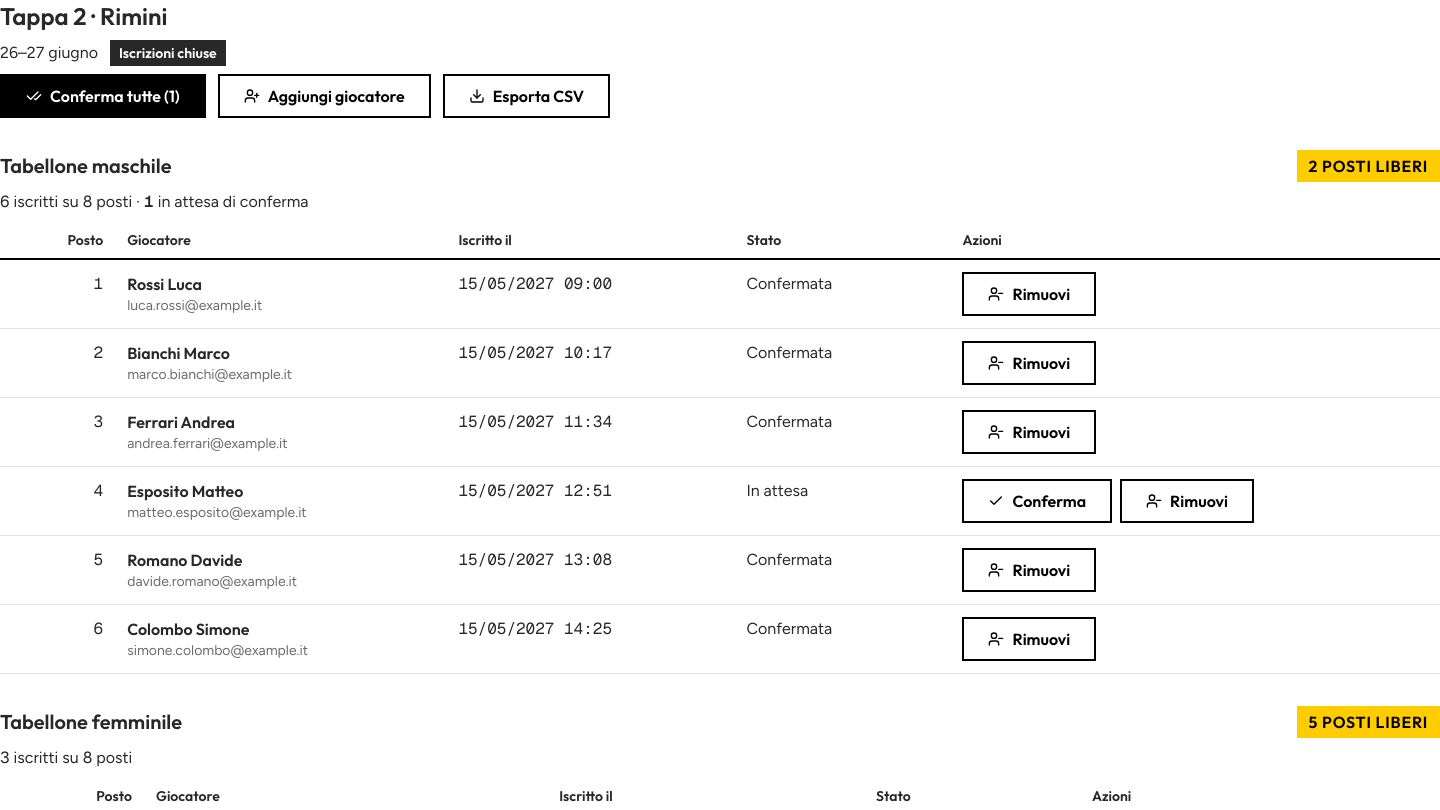
Test: IscrittiTappa (w-admin-iscritti) › rimuove dopo la conferma e porta il focus sul messaggio del tabellone
Click the button with aria-label "Rimuovi Rossi Luca" at (1029, 294), box left=962, top=272, right=1096, bottom=316
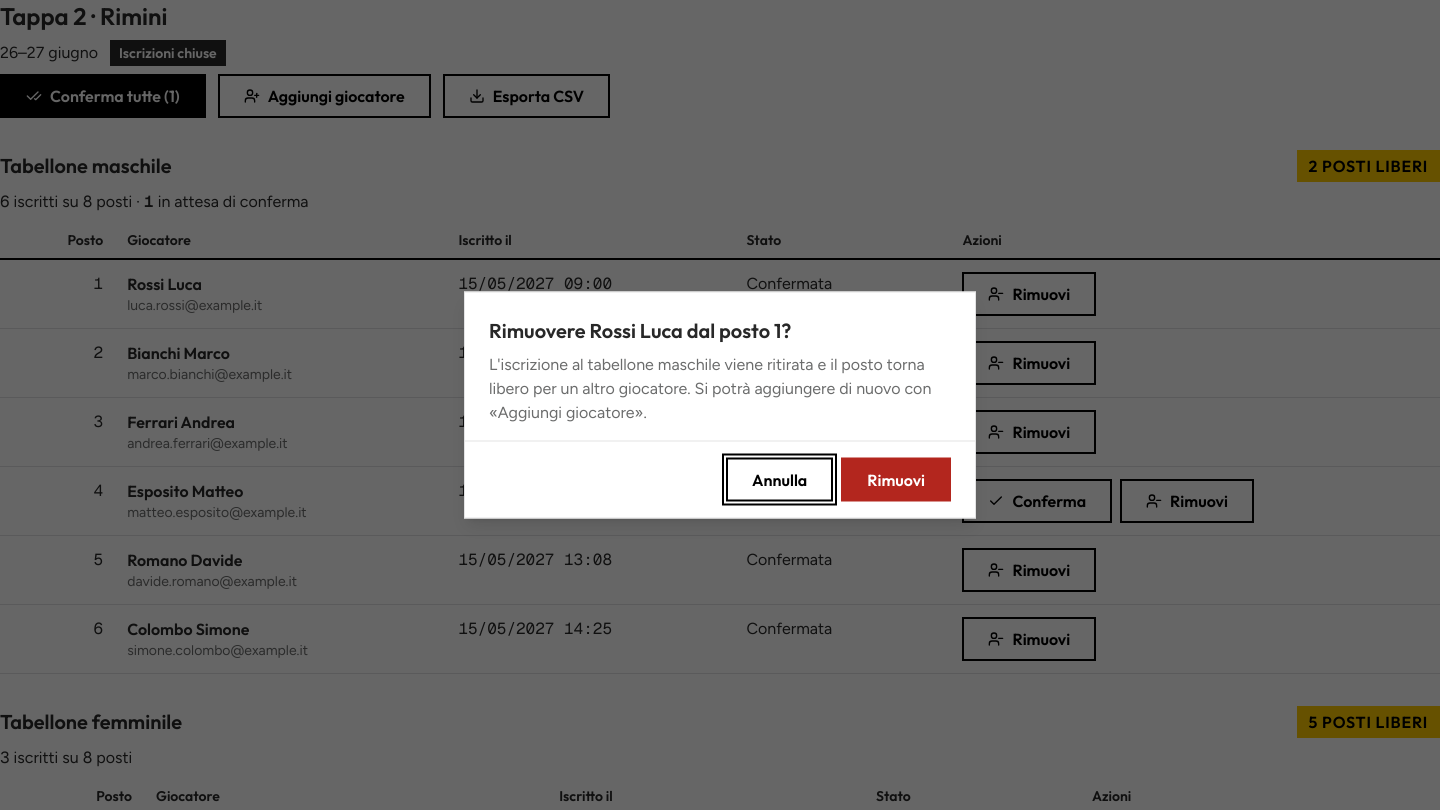
Click the button "Rimuovi" at (896, 480), box left=841, top=458, right=951, bottom=502
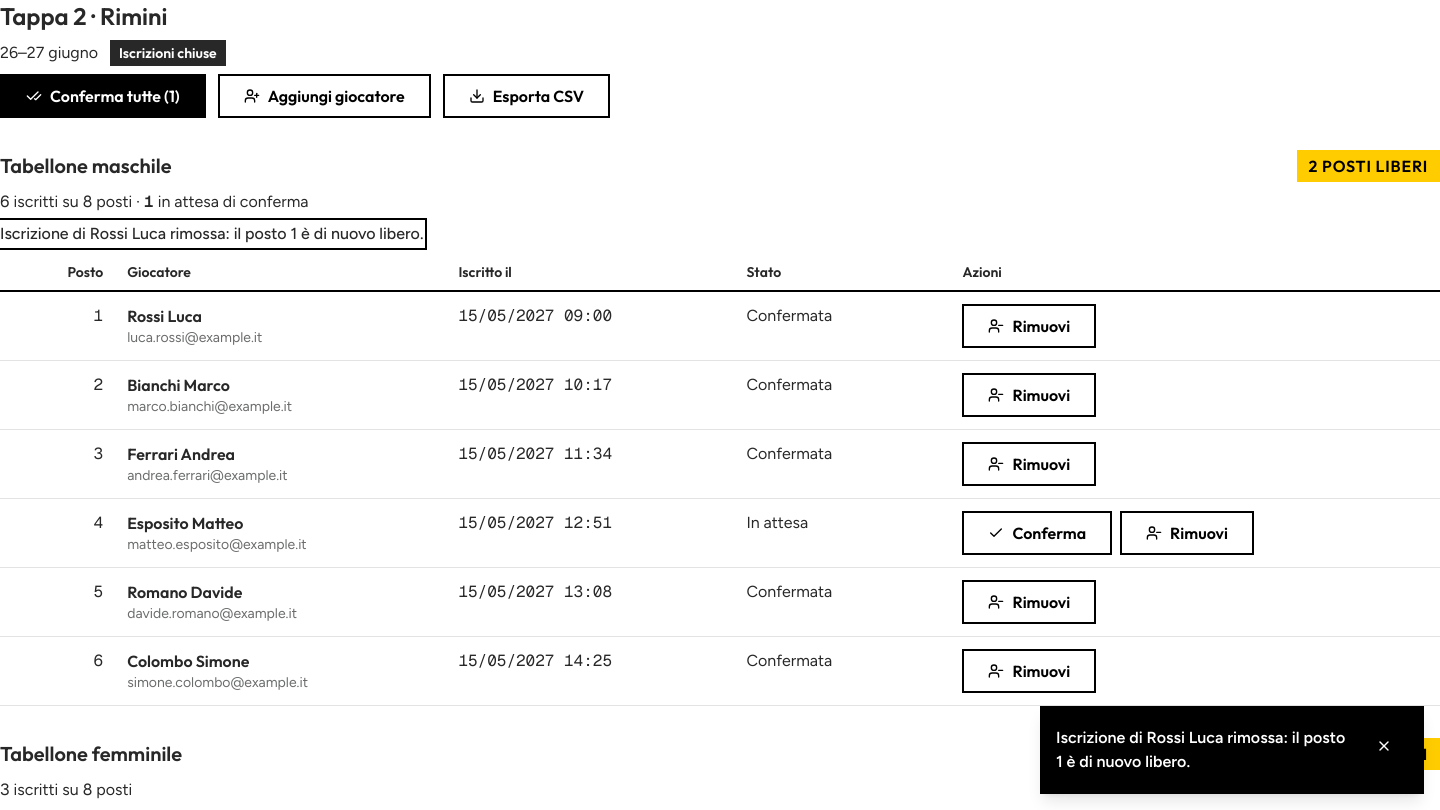
Check: the heading "Rimuovere Rossi Luca dal posto 1?" is gone
Check: the text with test id "iscritti-esito" shows "il posto 1 è di nuovo libero", box left=0, top=224, right=423, bottom=243
